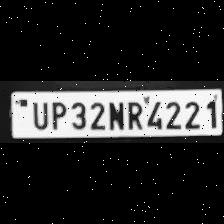1: (201, 97, 219, 128)
2: (162, 97, 182, 128), (181, 97, 201, 128), (87, 99, 105, 130)
3: (67, 99, 87, 129)
4: (143, 97, 163, 129)
N: (104, 98, 124, 130)
P: (47, 99, 67, 130)
R: (123, 98, 143, 130)
U: (28, 99, 48, 129)
